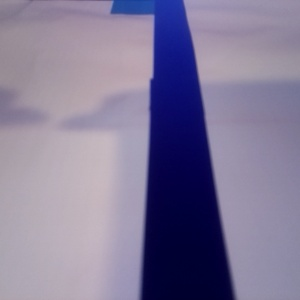bottom_right: (84, 51, 187, 92), (186, 15, 258, 43), (55, 1, 123, 14)
top_left: (19, 133, 162, 235)
